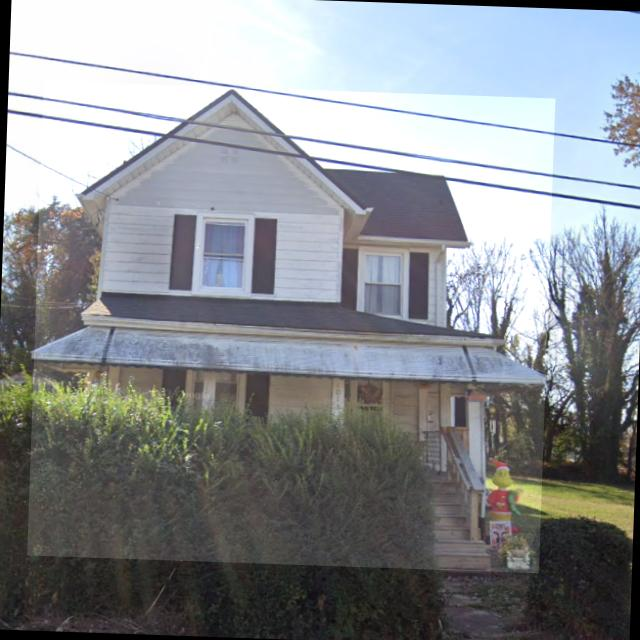House: (27, 80, 555, 573)
